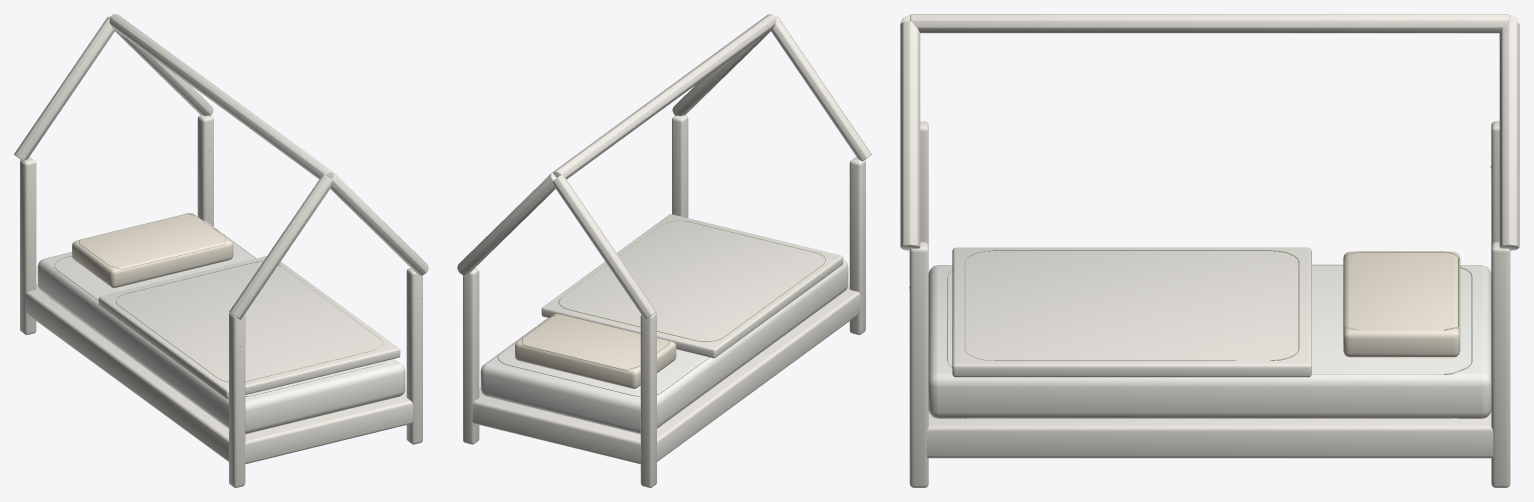
File: kids-house-bed.glb
3 renders of one model, left to right at view 1: azimuth 30°, elevation 25°; view 2: azimuth 150°, elevation 25°; view 3: azimuth 270°, elevation 25°, orthographic. The views are drawn at different scales.
Parts seen in each view (by area): view 1: kids-house-bed; view 2: kids-house-bed; view 3: kids-house-bed.
Part boxes in pixels (box(x1,y1,x2,y2)): kids-house-bed: box(14, 14, 428, 487); kids-house-bed: box(457, 14, 871, 487); kids-house-bed: box(900, 14, 1519, 487).
Bounding box in the file's own units: 1.05 × 1.5 × 2.05.
